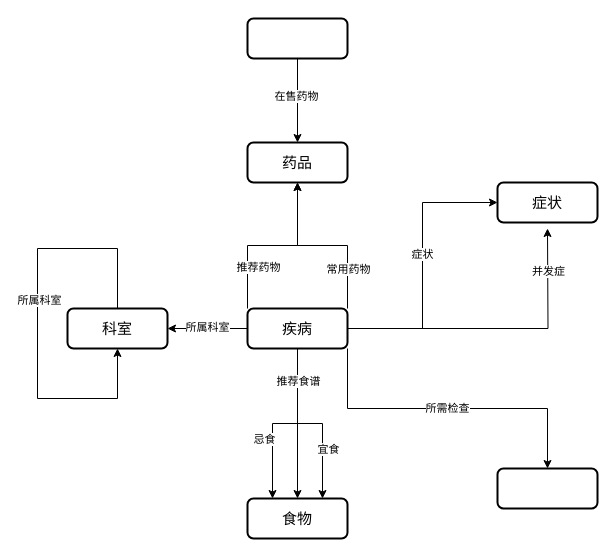
Image size: 616x556. Some labels were removed from this diagram. Here are the shapes that lost their labels. From the top down, the centre of each, then its label:
point (297, 38): 药厂
point (547, 488): 检查项目
